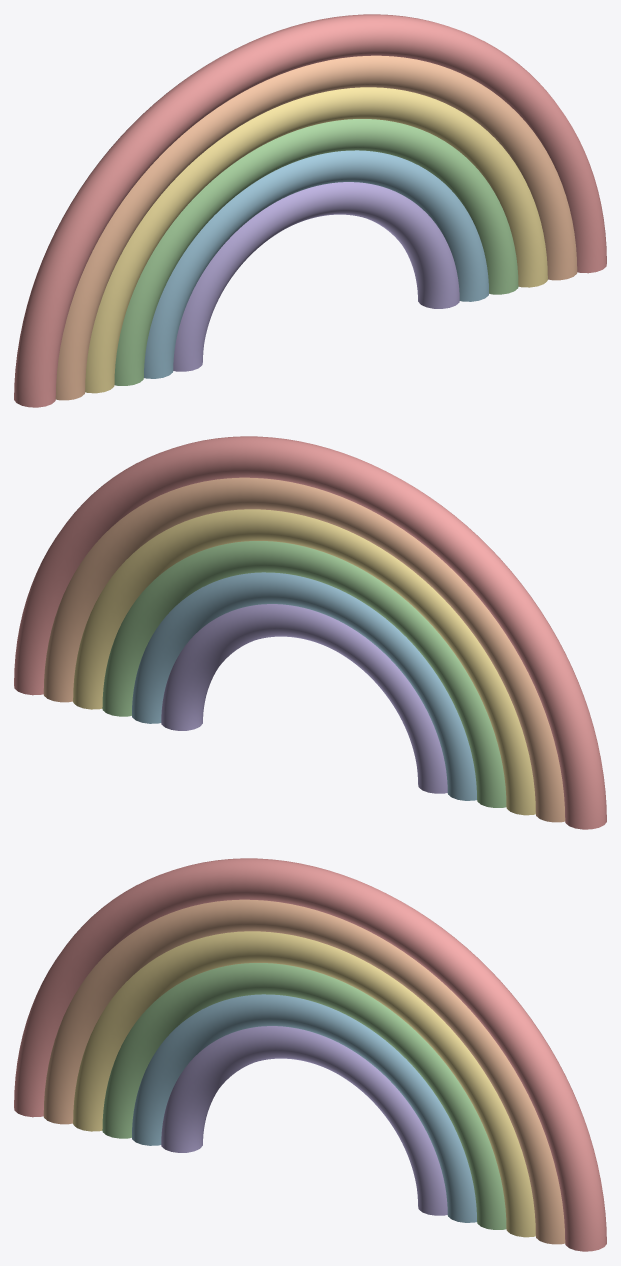
File: big-bold-rainbow-v1.glb
3 renders of one model, top to bottom at view 1: azimuth 30°, elevation 25°; view 2: azimuth 150°, elevation 25°; view 3: azimuth 330°, elevation 25°, orthographic.
Visible parts, largest first — view 1: Rainbow; view 2: Rainbow; view 3: Rainbow.
Part boxes in pixels (x1=…): Rainbow: x1=14, y1=14, x2=606, y2=407; Rainbow: x1=14, y1=436, x2=606, y2=829; Rainbow: x1=14, y1=858, x2=606, y2=1251.
Size of the model in its own units: 3.2 by 1.6 by 0.2.
